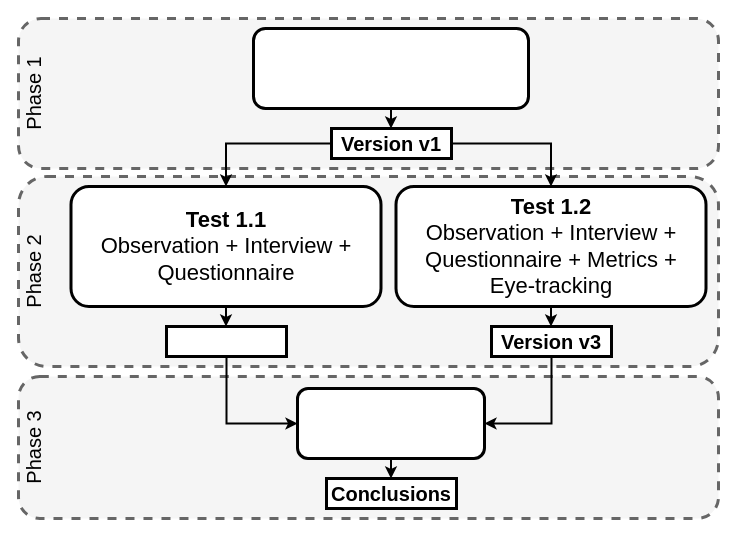
This 737x537 diagram has some shape labels left out. The centre of each missing label's shape, as x and y in pixels:
"Designers' assumptions + research on gaming trends" goes at pixel 391 68.
"Test 2 GEQ + PANAS" goes at pixel 391 423.
"Version v2" goes at pixel 226 341.
